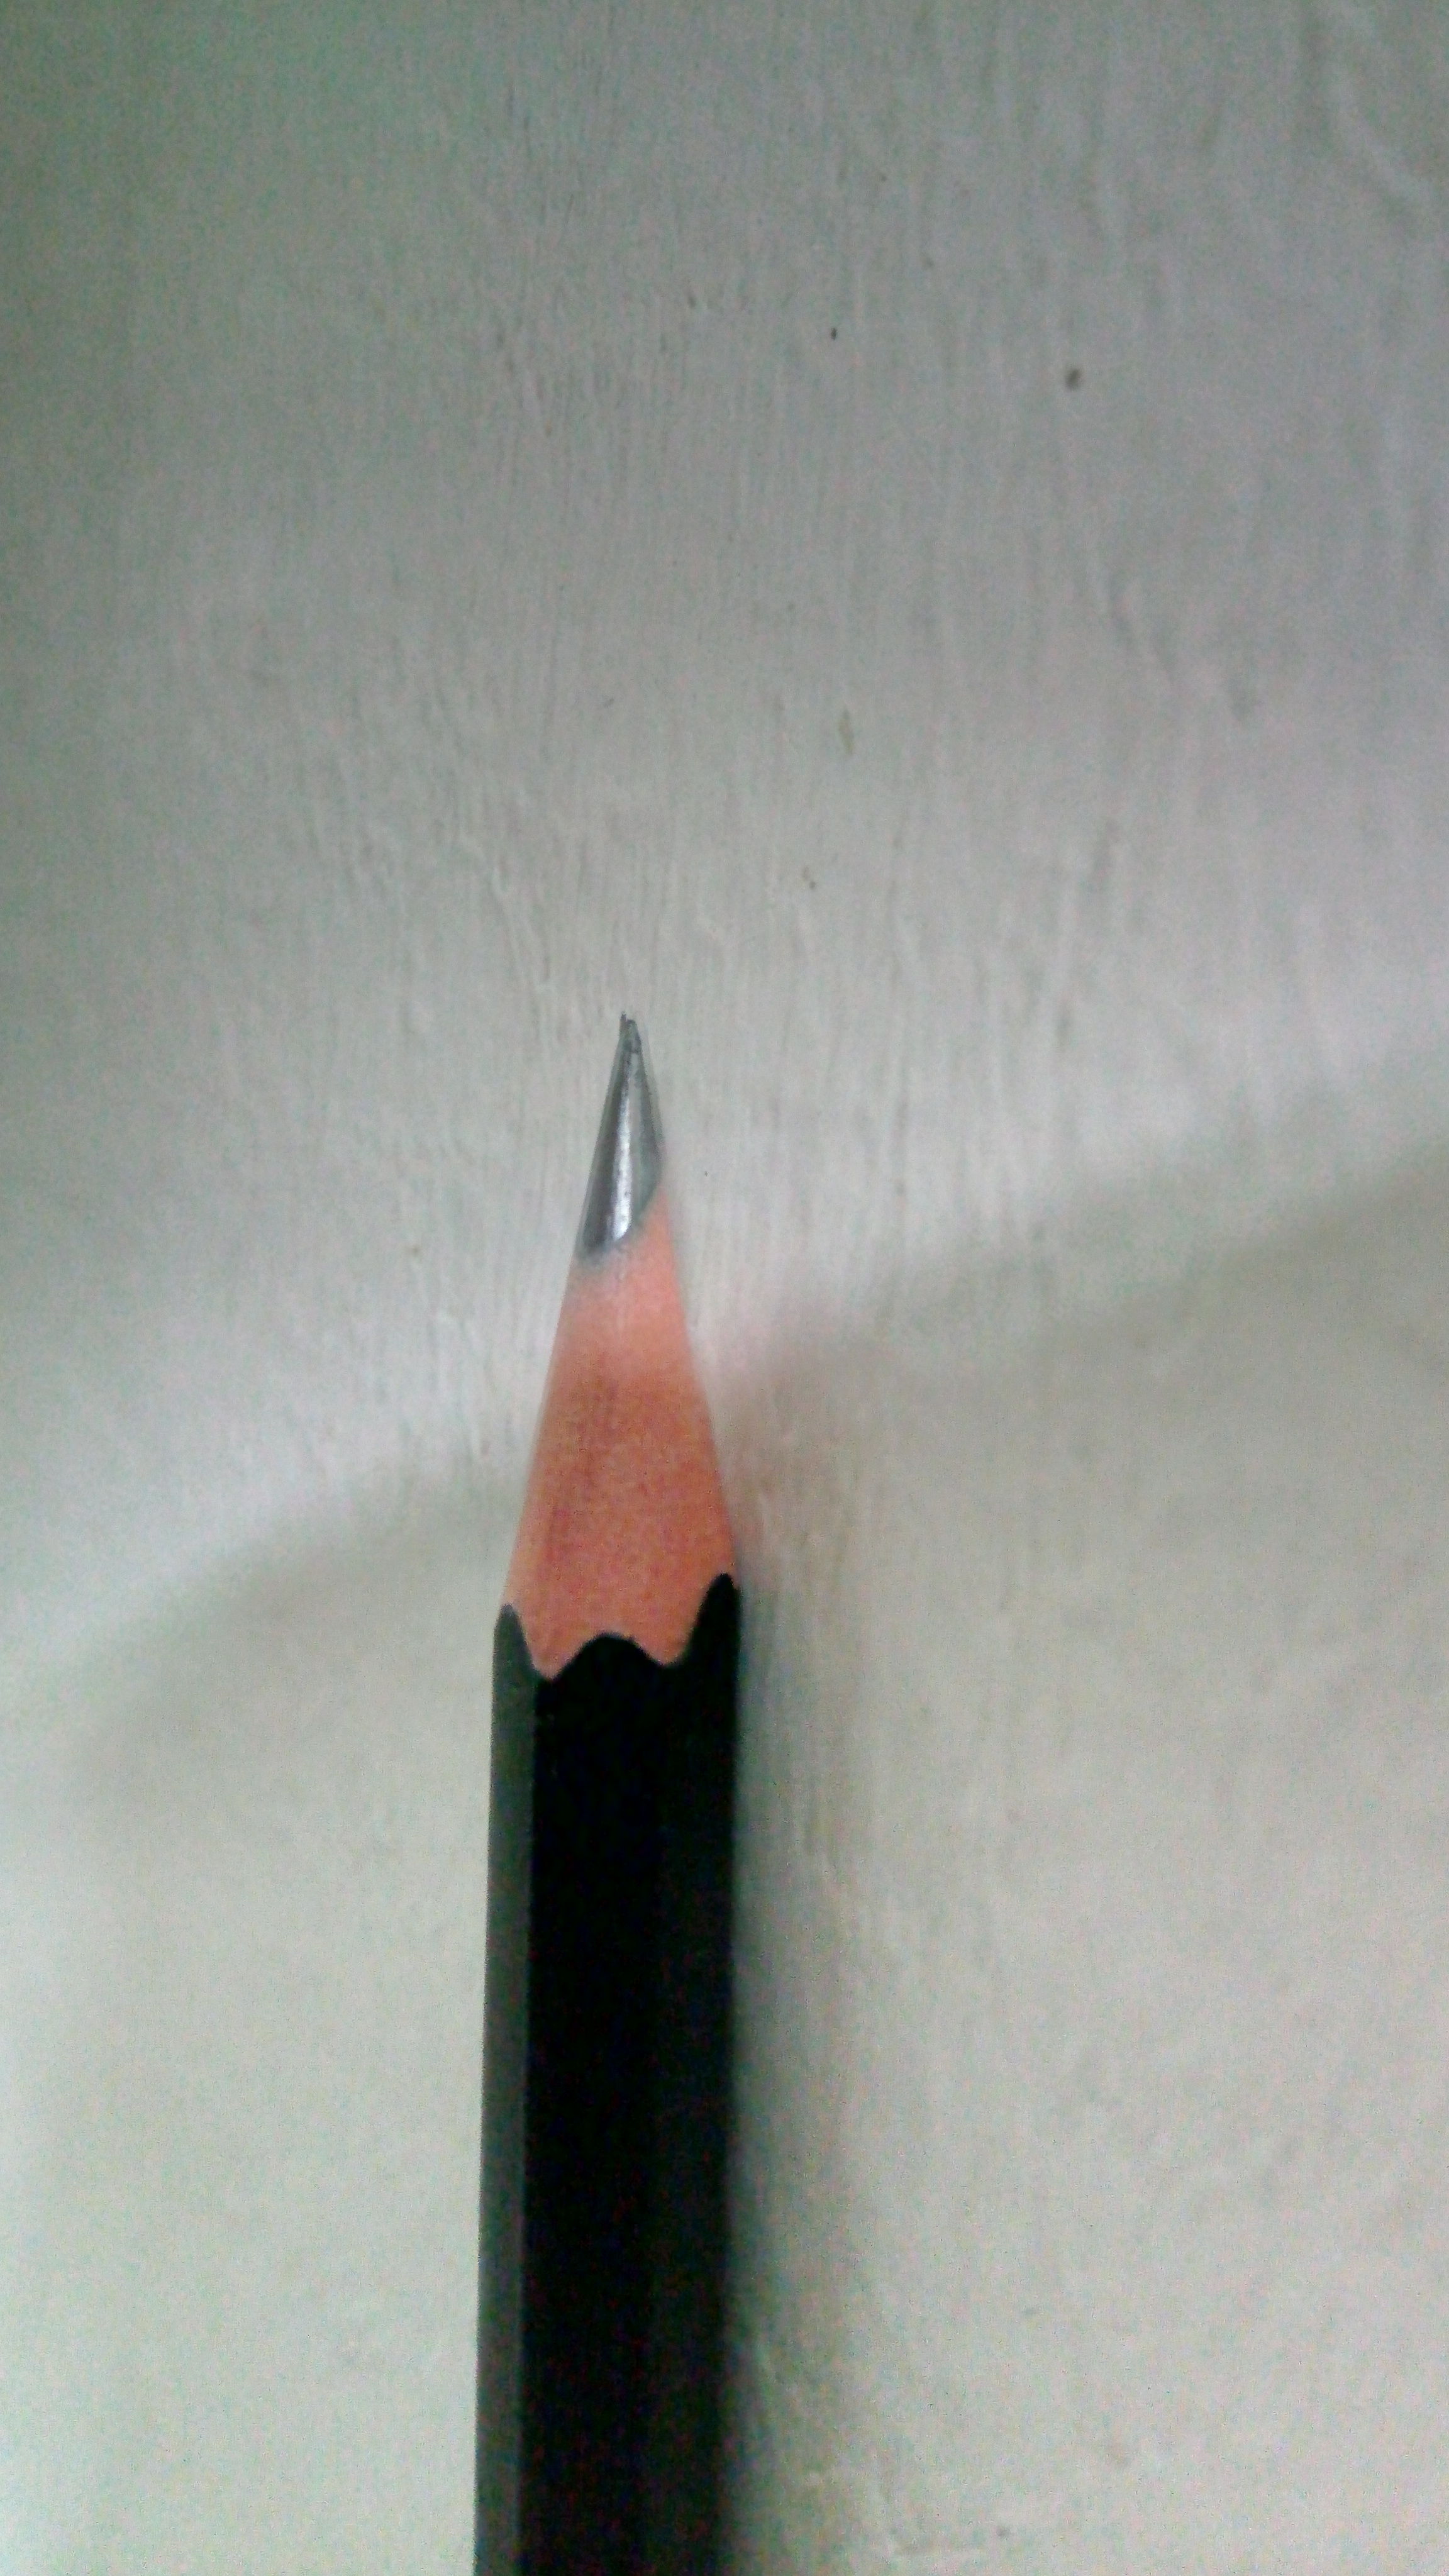pen_tip: (393, 906, 950, 1842)
